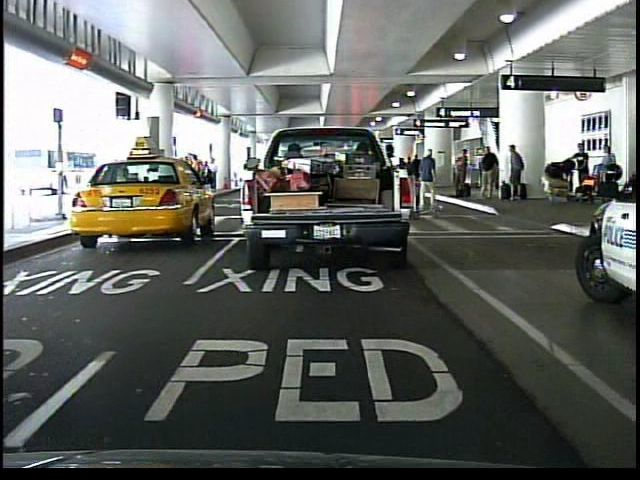person: (376, 137, 416, 228), (594, 141, 620, 203), (571, 140, 596, 200), (416, 147, 439, 211)
